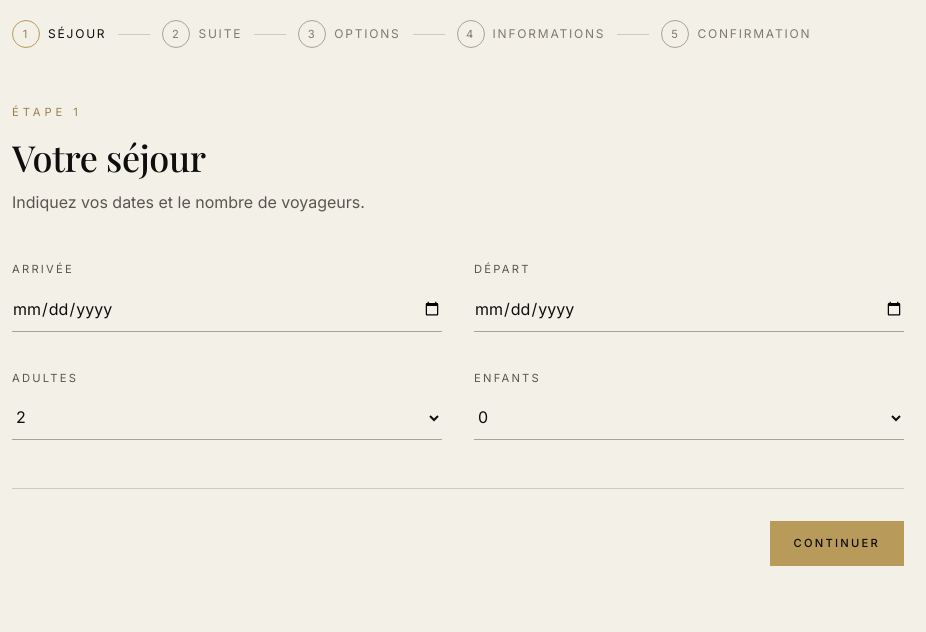
Test: ReservationFunnel › bloque la progression tant que le séjour est invalide
Expected: the heading "Votre séjour" is shown, [12,133,206,181]
Click the button "Continuer".
click(837, 543)  # box [770,521,904,566]
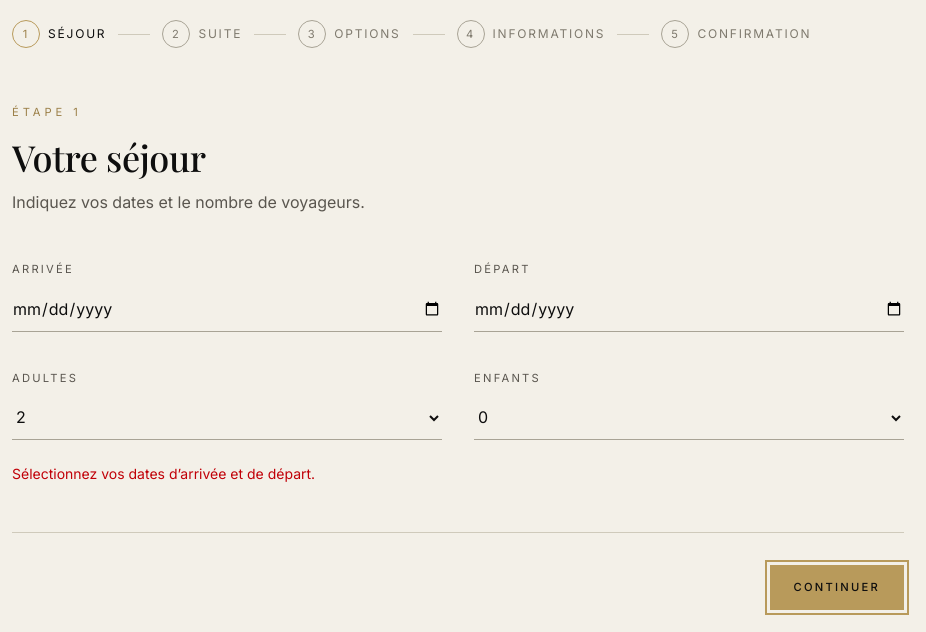
Expected: the heading "Votre séjour" is shown, [12,133,206,181]
Result: the message "Sélectionnez vos dates d’arrivée et de départ." is shown at [12,465,315,482]
